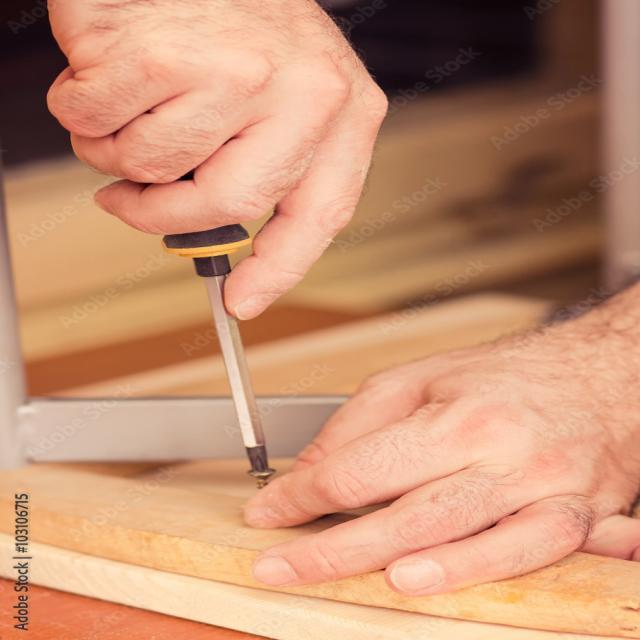screwdriver: (140, 162, 284, 476)
